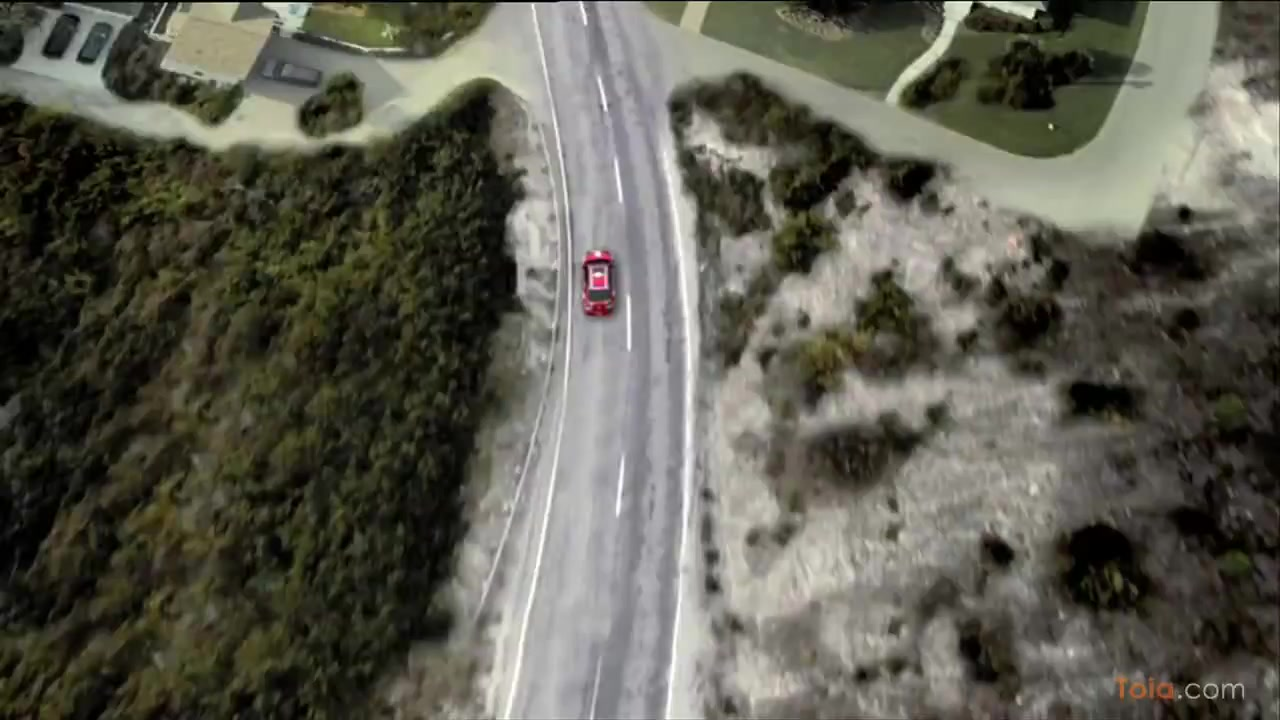car: (580, 248, 623, 324)
